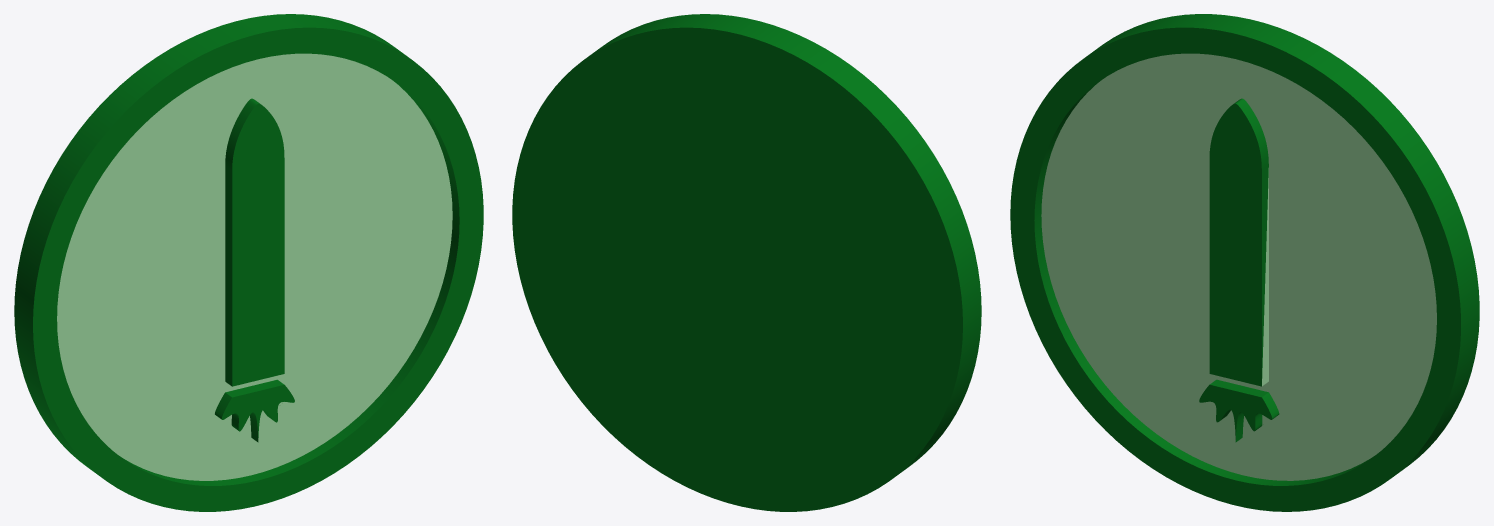
File: YesMisilieFBX.fbx
The picture shows the model from 3 angles, left to right: view 1: azimuth 30°, elevation 25°; view 2: azimuth 150°, elevation 25°; view 3: azimuth 330°, elevation 25°; orthographic projection.
Visible parts, largest first — view 1: YesMisilDisk; view 2: YesMisilDisk; view 3: YesMisilDisk.
Part boxes in pixels (x1,y1,x2,y2): YesMisilDisk: [14, 14, 483, 511]; YesMisilDisk: [512, 14, 981, 511]; YesMisilDisk: [1010, 14, 1479, 511].
Size of the model in its own units: 11197 by 11199 by 800.
